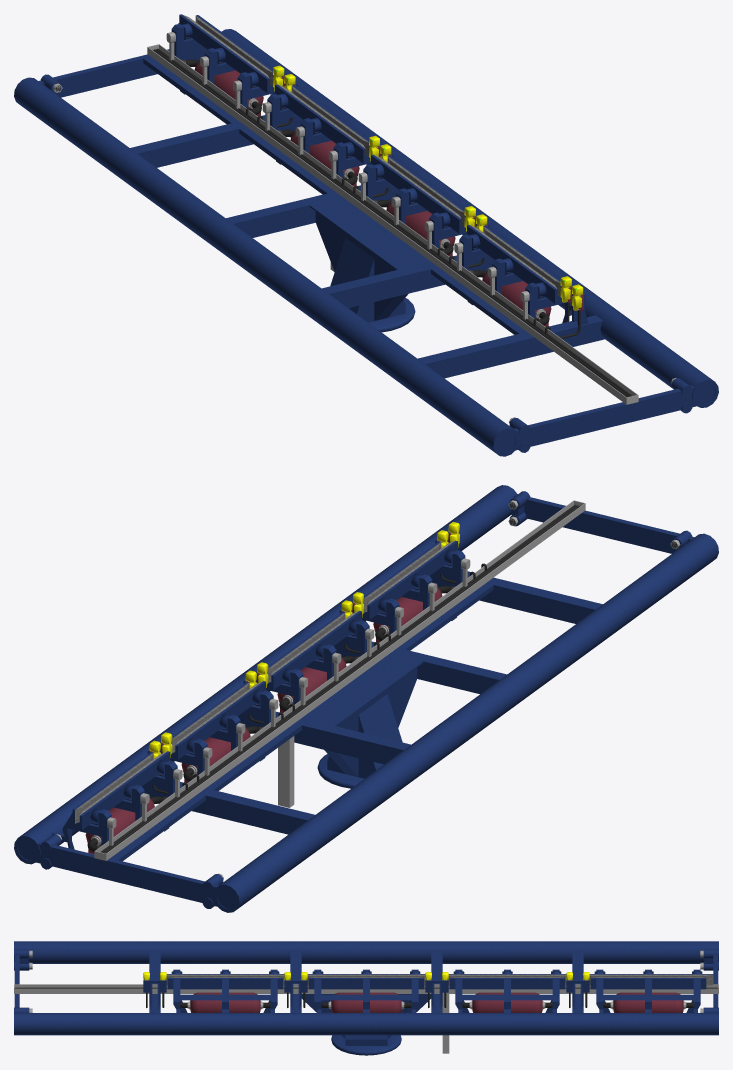
Rendered from Block Section Standard.dae.
3 views of the same model, one above another, from view 1: azimuth 30°, elevation 25°; view 2: azimuth 150°, elevation 25°; view 3: azimuth 270°, elevation 25° (orthographic). The views are drawn at different scales.
Parts seen in each view (by area): view 1: Track_8 (×7), Mid_Detail_1 (×6), Clamps (×4), High_Detail_3 (×2); view 2: Track_8 (×7), Mid_Detail_1 (×6), Clamps (×4), High_Detail_3 (×3); view 3: Track_8 (×10), Mid_Detail_1 (×10), Clamps (×4), High_Detail_3 (×5).
Part boxes in pixels (x1,y1,x2,y2): Track_8 (×7): [14, 29, 718, 456]; Mid_Detail_1 (×6): [143, 15, 638, 404]; Clamps (×4): [179, 14, 557, 303]; High_Detail_3 (×2): [154, 48, 632, 396]; Track_8 (×7): [14, 485, 718, 912]; Mid_Detail_1 (×6): [51, 500, 585, 861]; Clamps (×4): [79, 540, 457, 830]; High_Detail_3 (×3): [100, 504, 580, 853]; Track_8 (×10): [14, 941, 718, 1055]; Mid_Detail_1 (×10): [14, 969, 718, 1053]; Clamps (×4): [166, 974, 713, 985]; High_Detail_3 (×5): [14, 980, 718, 1009].
Bounding box in the file's own units: 53.48 × 197 × 27.99.
10 materials, 4 textured.
